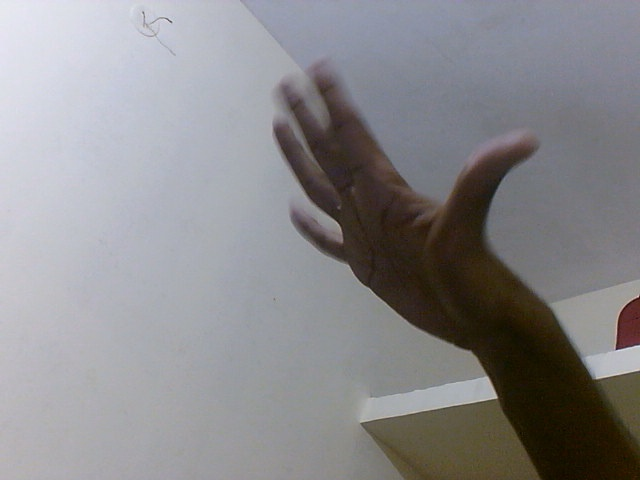hand: (266, 53, 577, 347)
